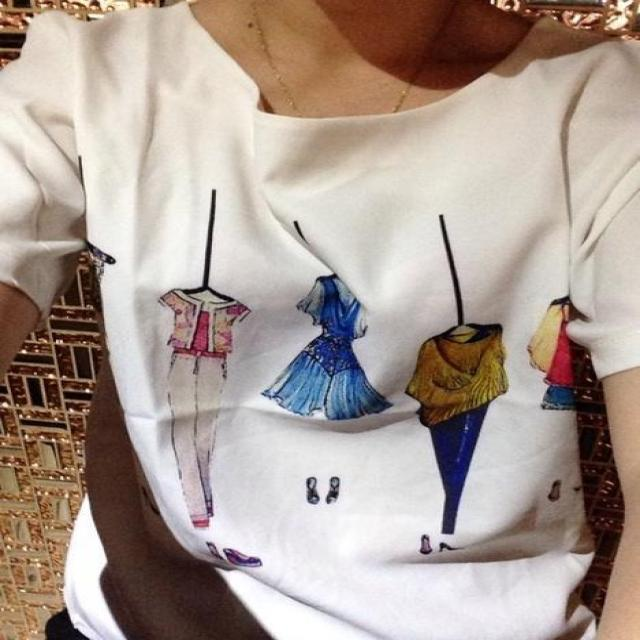short sleeve top: (1, 5, 639, 638)
